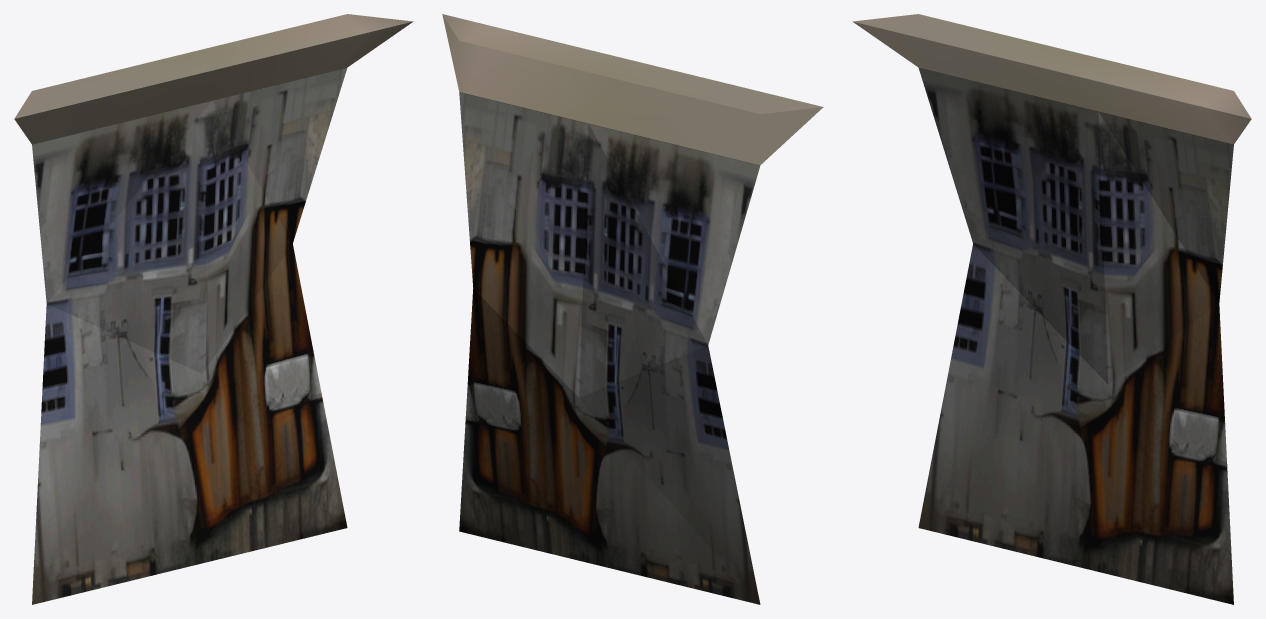
The model's file is W_A1_x [Favellas]_1486.glb.
3 views of the same model, side by side, from view 1: azimuth 30°, elevation 25°; view 2: azimuth 150°, elevation 25°; view 3: azimuth 330°, elevation 25° (orthographic). The views are drawn at different scales.
Parts seen in each view (by area): view 1: polySurfaceShape1201, polySurfaceShape1203; view 2: polySurfaceShape1201, polySurfaceShape1203; view 3: polySurfaceShape1201, polySurfaceShape1203.
Boxes of the visible parts, x1=… form: polySurfaceShape1201: x1=32, y1=68, x2=347, y2=604; polySurfaceShape1203: x1=14, y1=14, x2=413, y2=144; polySurfaceShape1201: x1=459, y1=92, x2=760, y2=604; polySurfaceShape1203: x1=442, y1=14, x2=823, y2=165; polySurfaceShape1201: x1=918, y1=68, x2=1233, y2=604; polySurfaceShape1203: x1=852, y1=14, x2=1251, y2=144.
Bounding box in the file's own units: 0.3166 × 0.3891 × 0.0607.
2 materials, 2 textured.
